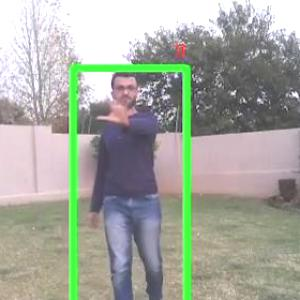follow_hand: (96, 86, 135, 126)
